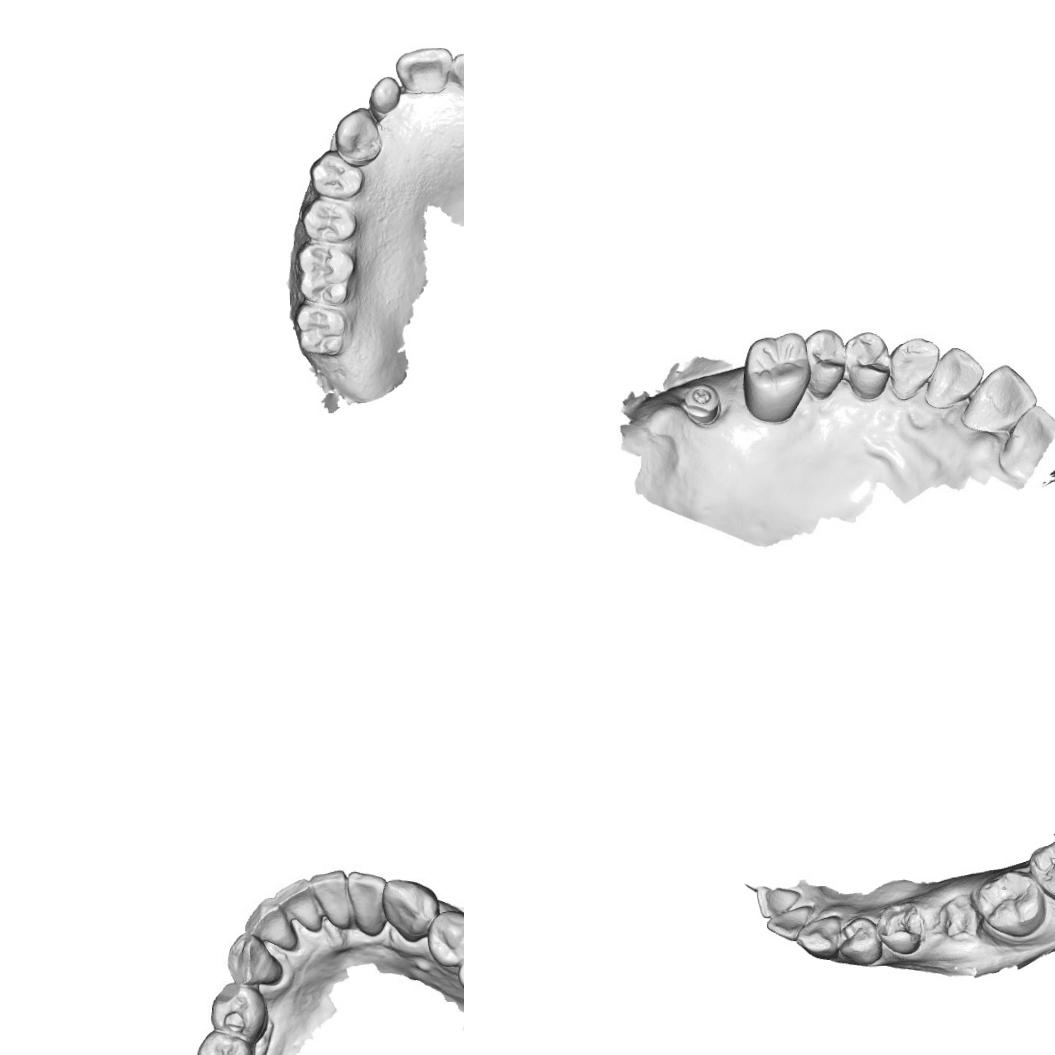canine: (382, 875, 438, 944), (223, 932, 284, 989), (333, 104, 384, 168), (890, 336, 936, 402), (838, 915, 884, 967)
implant: (683, 383, 722, 428)
incisor: (966, 361, 1038, 436), (241, 896, 300, 956), (1003, 404, 1055, 470), (926, 346, 985, 404), (393, 46, 454, 98), (269, 877, 322, 934), (347, 866, 388, 939), (308, 868, 354, 932), (794, 914, 843, 960), (765, 904, 815, 942), (366, 73, 402, 122), (755, 884, 803, 918), (450, 47, 464, 97)
inlay: (878, 904, 925, 946)
molar: (738, 330, 811, 420), (974, 868, 1048, 940), (293, 240, 358, 308), (290, 300, 354, 360), (1027, 837, 1055, 908)
premolar: (208, 982, 270, 1044), (844, 330, 892, 402), (308, 146, 366, 201), (299, 196, 359, 244), (808, 324, 844, 394), (427, 911, 464, 968), (194, 1027, 255, 1055)
